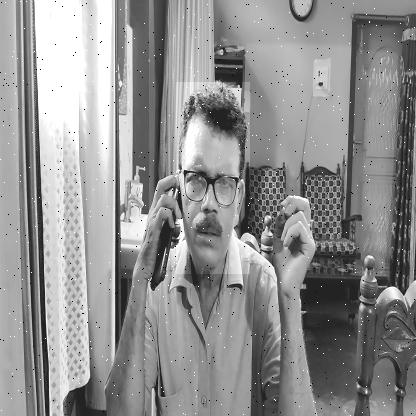Normal: (176, 82, 250, 274)
